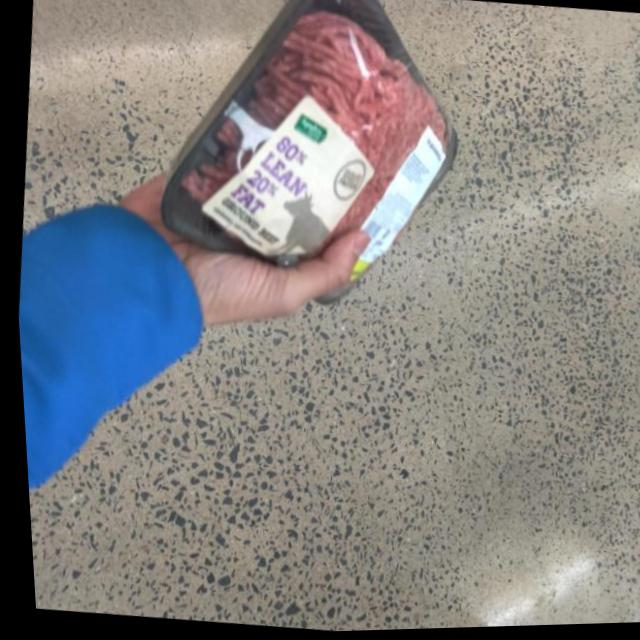Meat: (133, 0, 480, 344)
